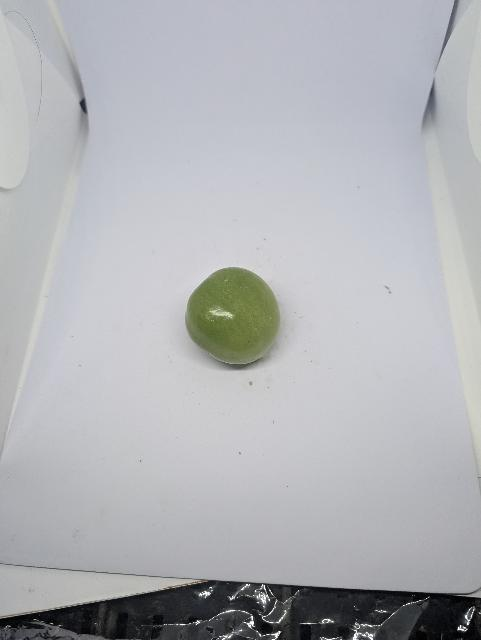green: (182, 262, 283, 368)
